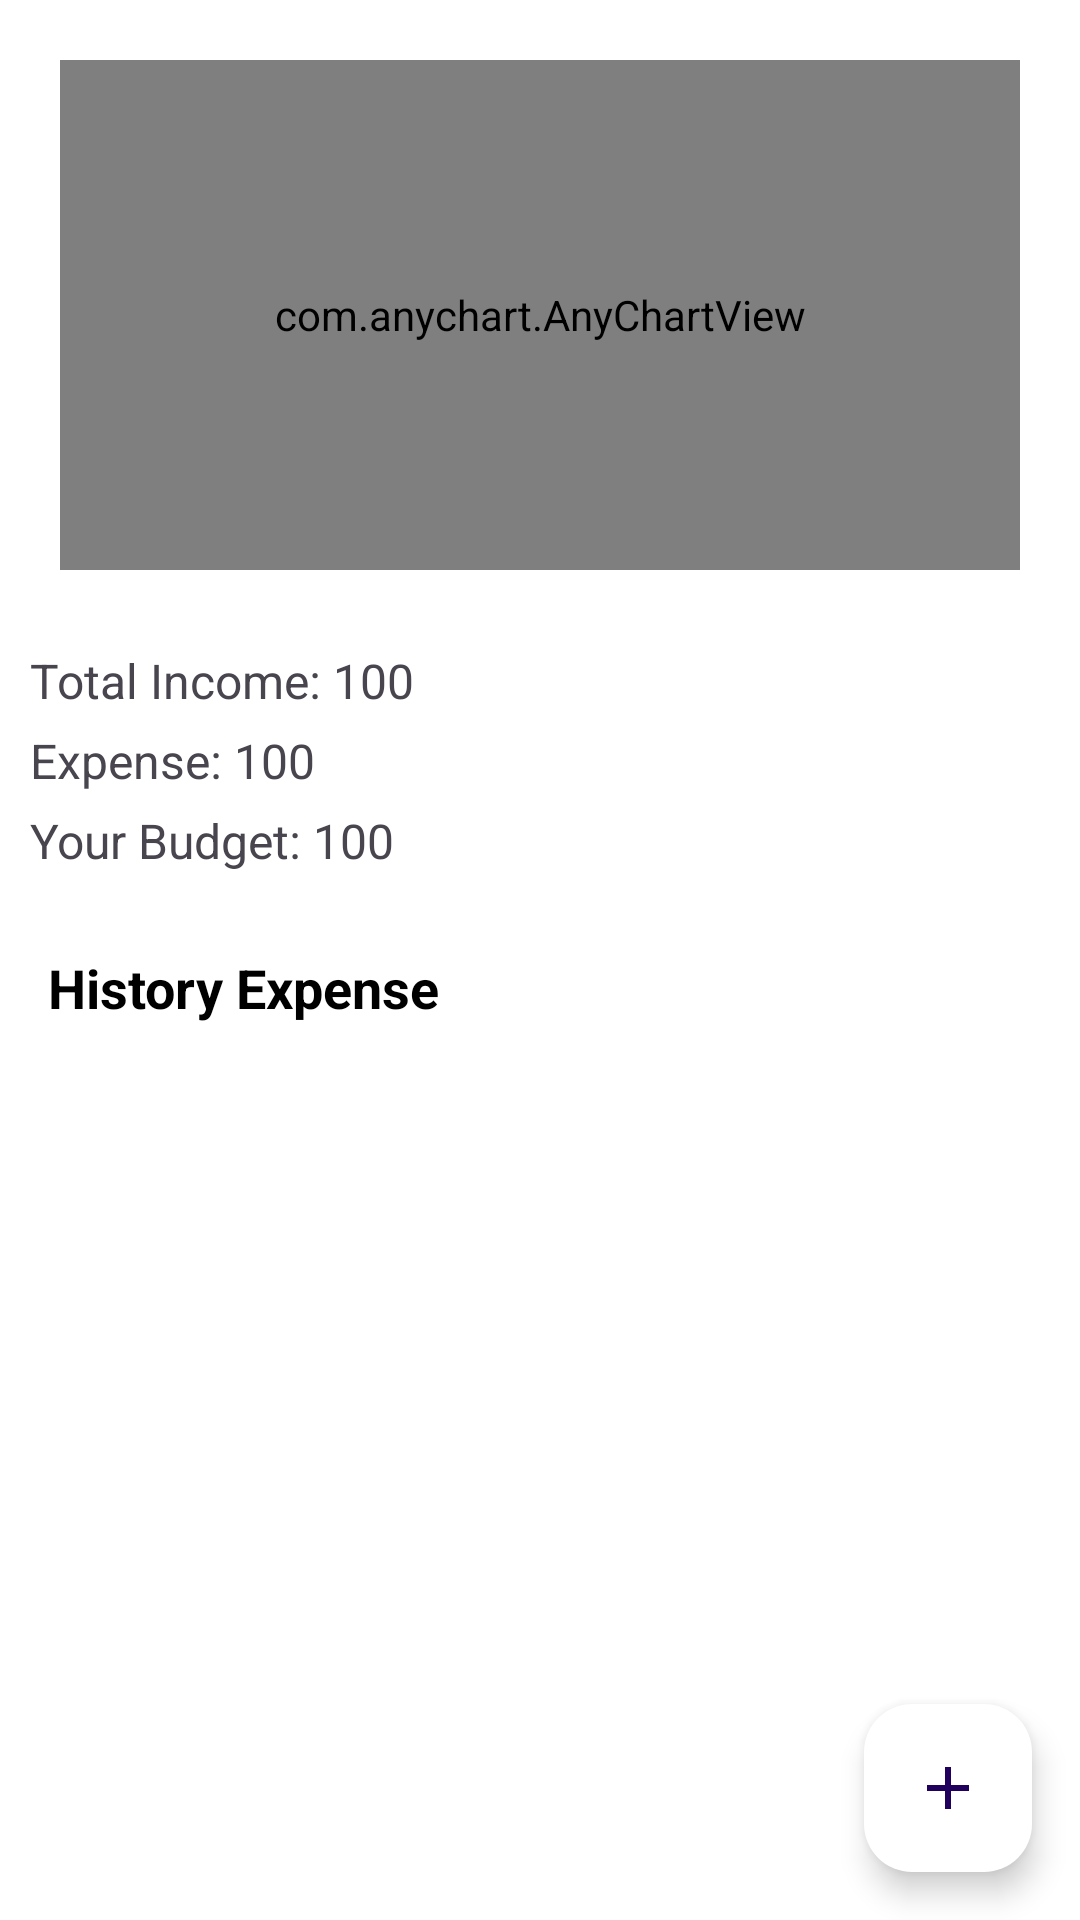

Point at icon controls on the screen. Image size 1080 × 1920, points as [x,y].
Add Transaction: [951,1819]
